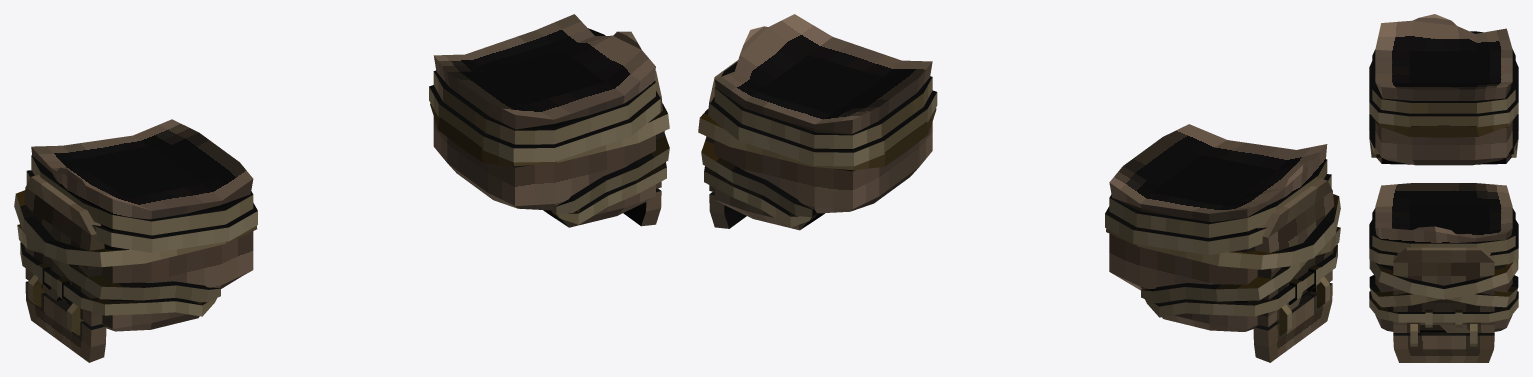
3 views of the same model, side by side, from view 1: azimuth 30°, elevation 25°; view 2: azimuth 150°, elevation 25°; view 3: azimuth 270°, elevation 25° (orthographic). The views are drawn at different scales.
Visible parts, largest first — view 1: left_arm, right_arm; view 2: left_arm, right_arm; view 3: right_arm, left_arm.
Part boxes in pixels (<box>): left_arm: <box>14,119,257,362</box>; right_arm: <box>429,14,669,227</box>; left_arm: <box>1105,124,1340,362</box>; right_arm: <box>698,14,937,230</box>; right_arm: <box>1369,183,1518,362</box>; left_arm: <box>1369,14,1518,165</box>.
Size of the model in its own units: 1.11 by 0.3138 by 0.3125.
1 material, 1 textured.
